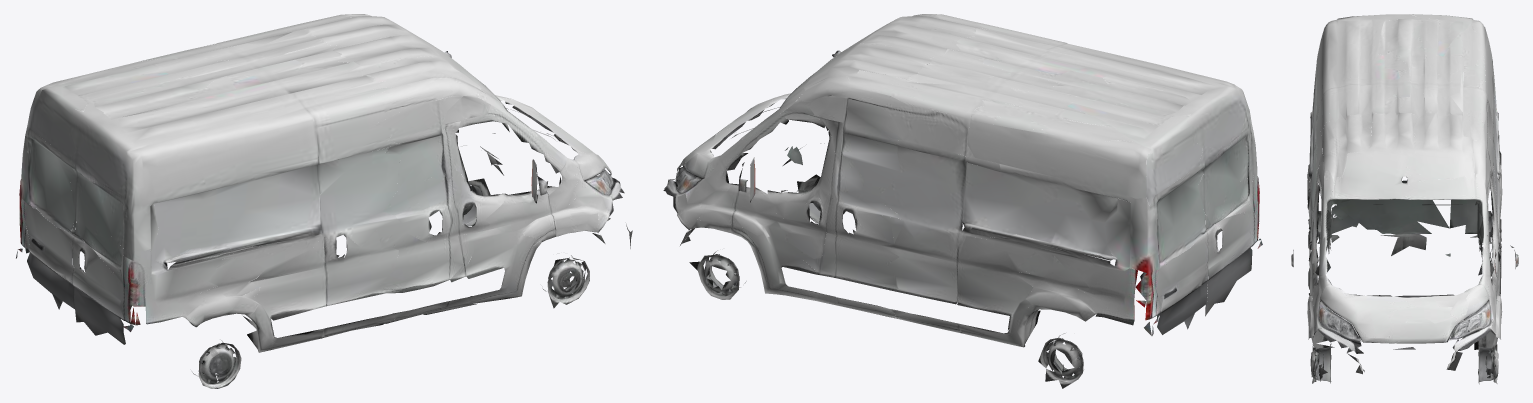
Rendered from van-paint.glb.
3 renders of one model, left to right at view 1: azimuth 30°, elevation 25°; view 2: azimuth 150°, elevation 25°; view 3: azimuth 270°, elevation 25°, orthographic. The views are drawn at different scales.
Parts seen in each view (by area): view 1: tripo_node_b3d7cbfa-77f9-40e8-824e-5484c7c3bdaa; view 2: tripo_node_b3d7cbfa-77f9-40e8-824e-5484c7c3bdaa; view 3: tripo_node_b3d7cbfa-77f9-40e8-824e-5484c7c3bdaa.
Part boxes in pixels (box(x1,y1,x2,y2)): tripo_node_b3d7cbfa-77f9-40e8-824e-5484c7c3bdaa: box(16, 14, 632, 388); tripo_node_b3d7cbfa-77f9-40e8-824e-5484c7c3bdaa: box(663, 14, 1262, 388); tripo_node_b3d7cbfa-77f9-40e8-824e-5484c7c3bdaa: box(1291, 14, 1518, 384).
Size of the model in its own units: 5.87 by 2.74 by 2.72.
Materials: 1 (1 with a texture image).
